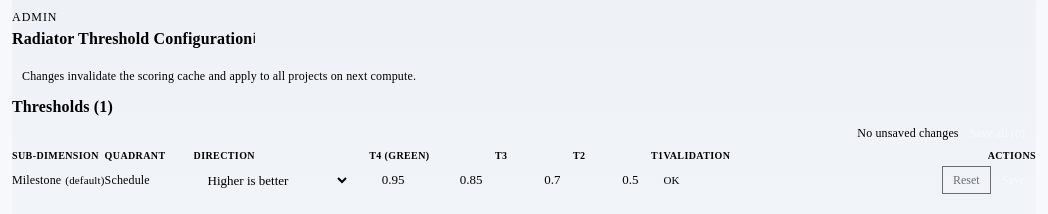
RadiatorThresholdsPage (W2-13) › shows validation error and disables row Save when ordering is broken
Expected: the button with test id "save-all-button" is shown, [959,119,1036,147]
// Column order: t4, t3, t2, t1 → index 3 is t1.
Step 1. Replace the text in the 4th number field with "0.99" → coordinates (624, 180), box [586,163,664,197]
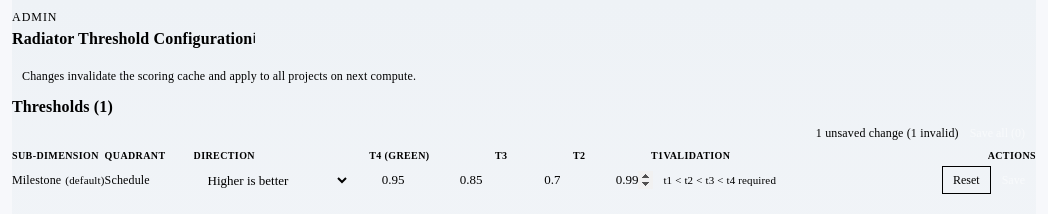
Expected: the button "Save" is disabled, [991,166,1036,194]
Now the text with test id "validation-error-milestoneAdherence" reads "t1 < t2 < t3 < t4 required", box [663,174,776,186]
Now the text with test id "dirty-summary" reads "1 unsaved change (1 invalid)", box [816,126,959,140]
